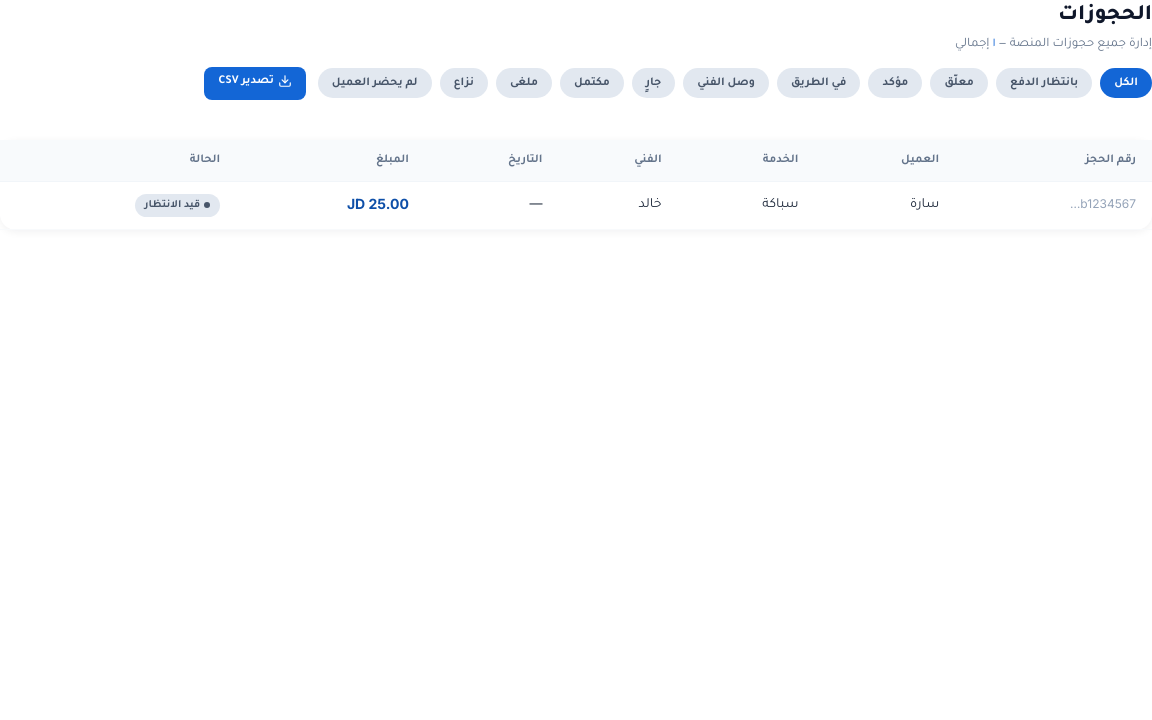
Test: Bookings page (detail drawer wired to GET /admin/bookings/:id) › shows a "no payment yet" message when payment is null
Expected: the text "سارة" is shown, left=814, top=181, right=955, bottom=230
Step 1. Click the row with test id "booking-row-b1234567-aaaa" → (576, 205), box left=0, top=181, right=1151, bottom=230
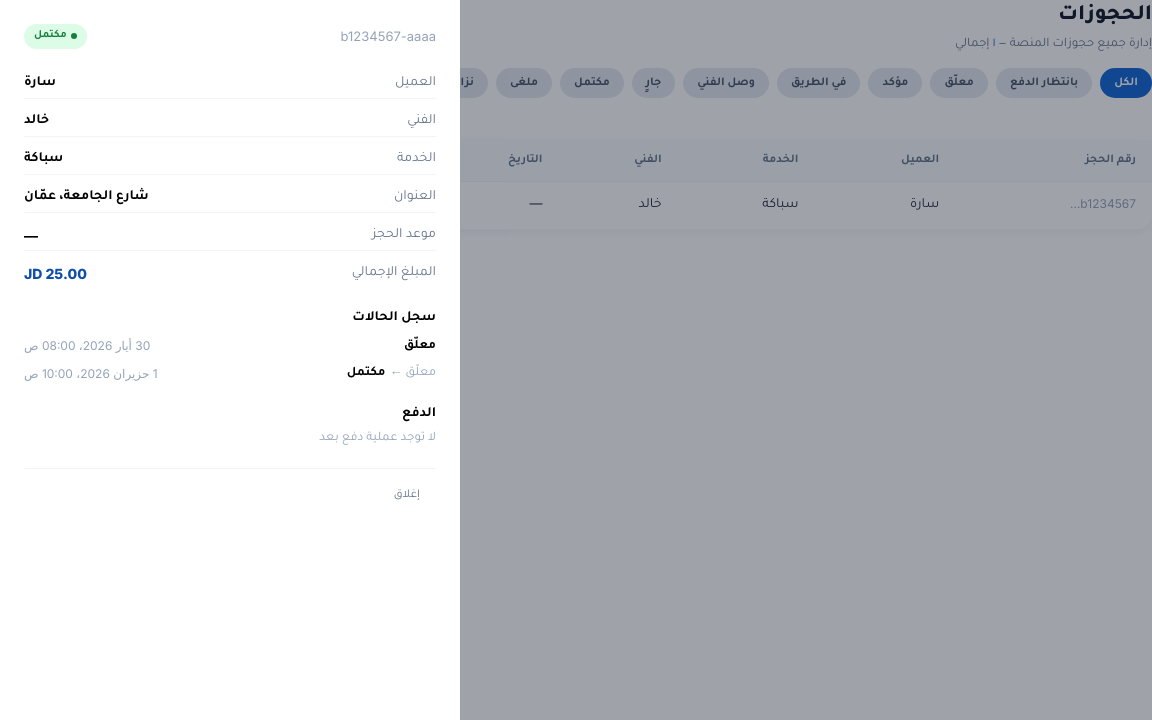
Expected: the text "لا توجد عملية دفع بعد" is shown, left=319, top=432, right=436, bottom=444
